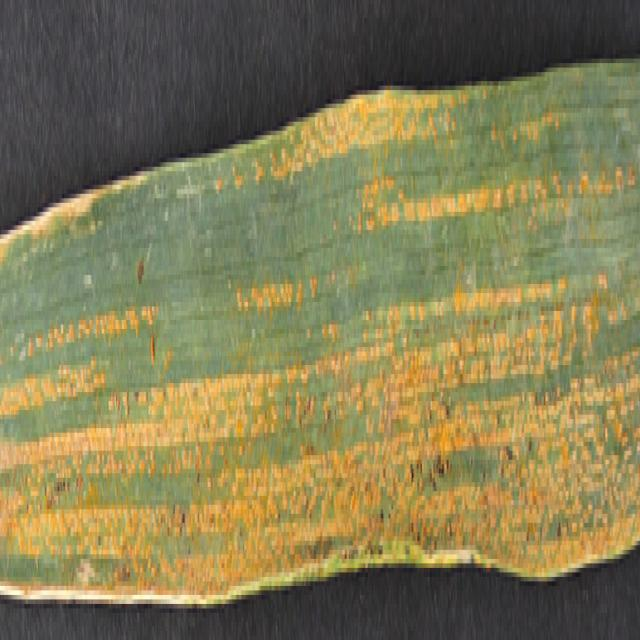leaf rust: (1, 81, 640, 613)
